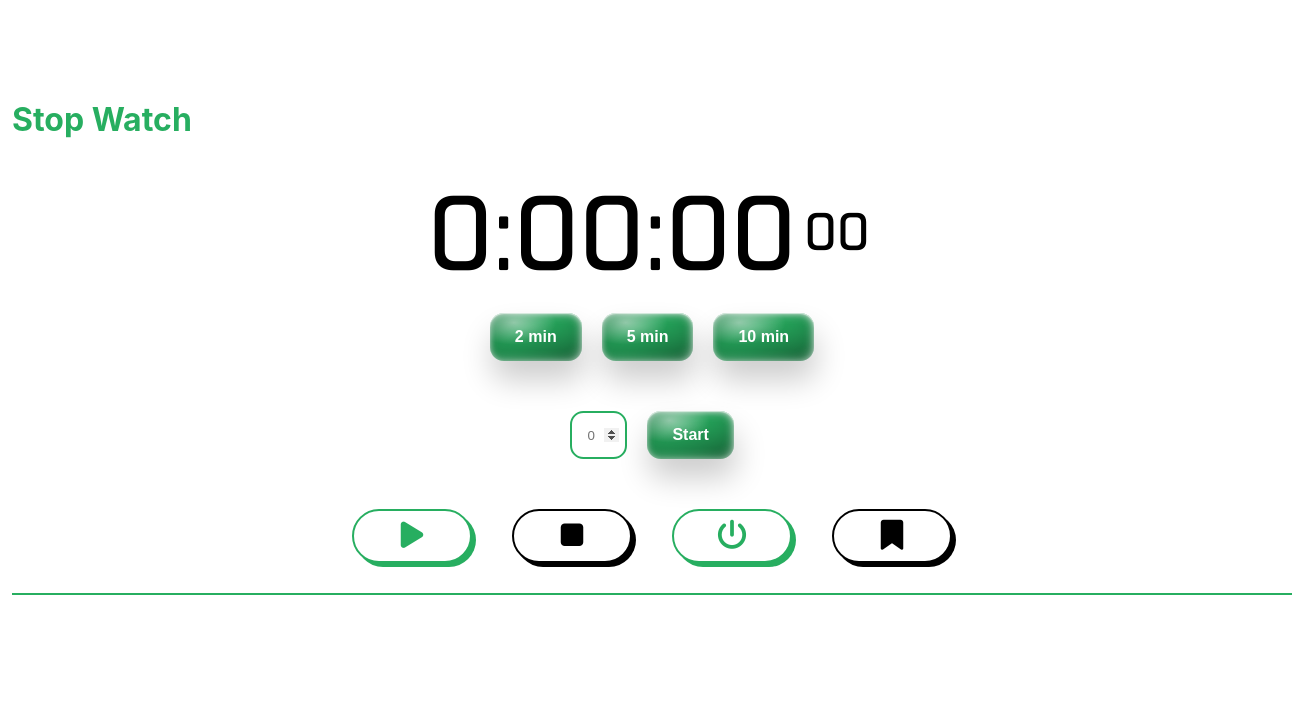
Test case: Lap Time Display
The width and height of the screenshot is (1292, 720).
What coordinates should you click on to do the following:
click the button with test id "start"
I would click on:
 (412, 536)
Its box is [352,509,472,563].
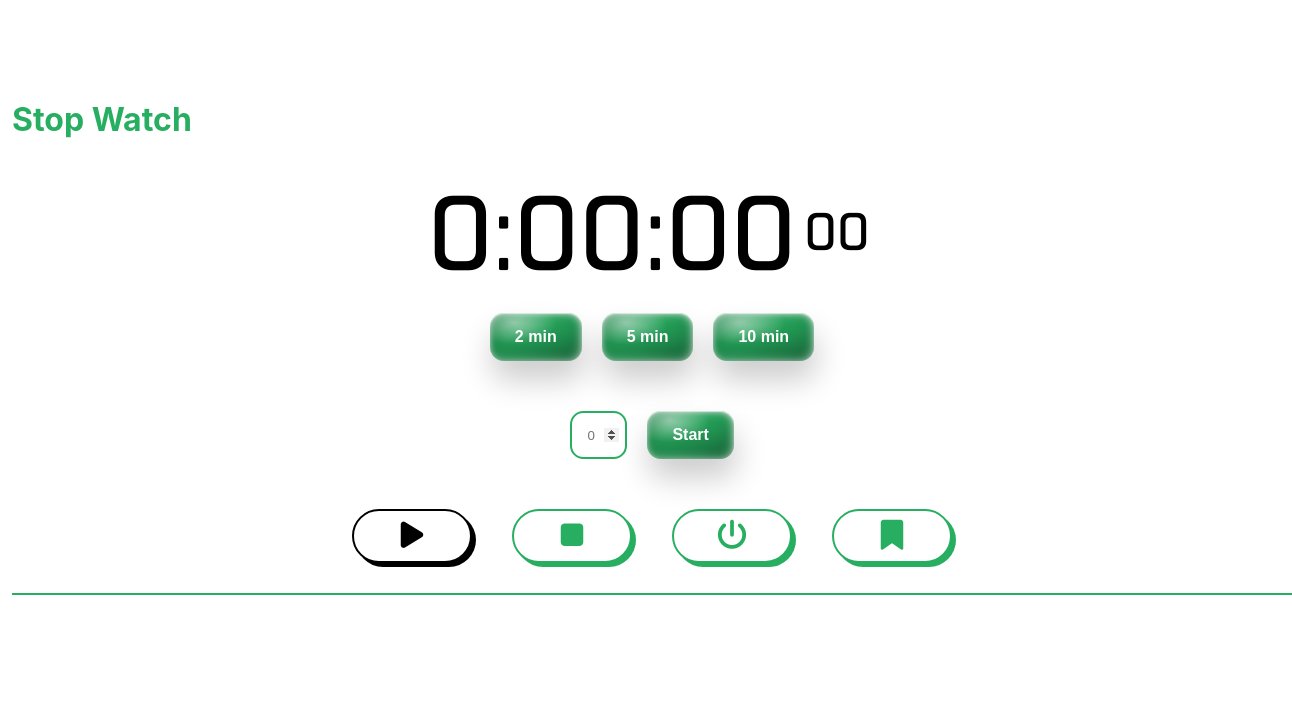
What coordinates should you click on to do the following:
click the button with test id "lap"
I would click on:
 (892, 536)
Its box is [832,509,952,563].
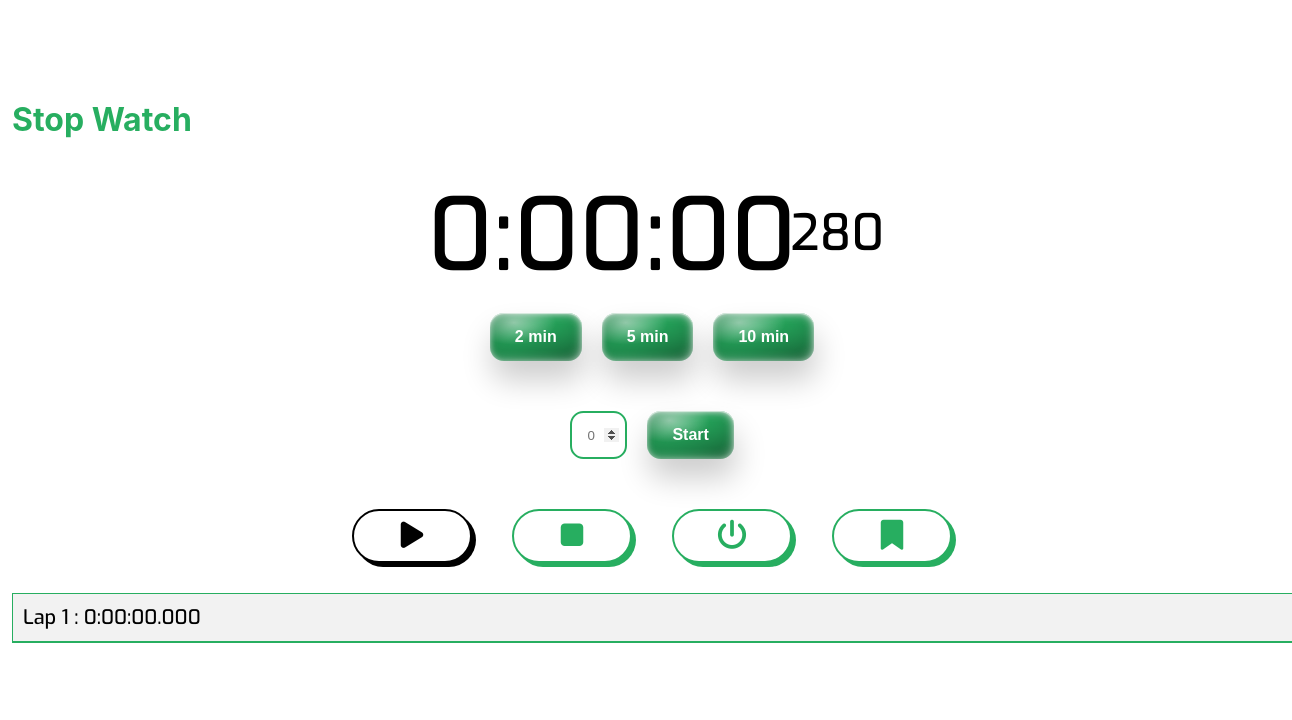
Now the element with test id "lap-list" reads "Lap 1 : 0:00:00.000", box [12,593,1291,643]
